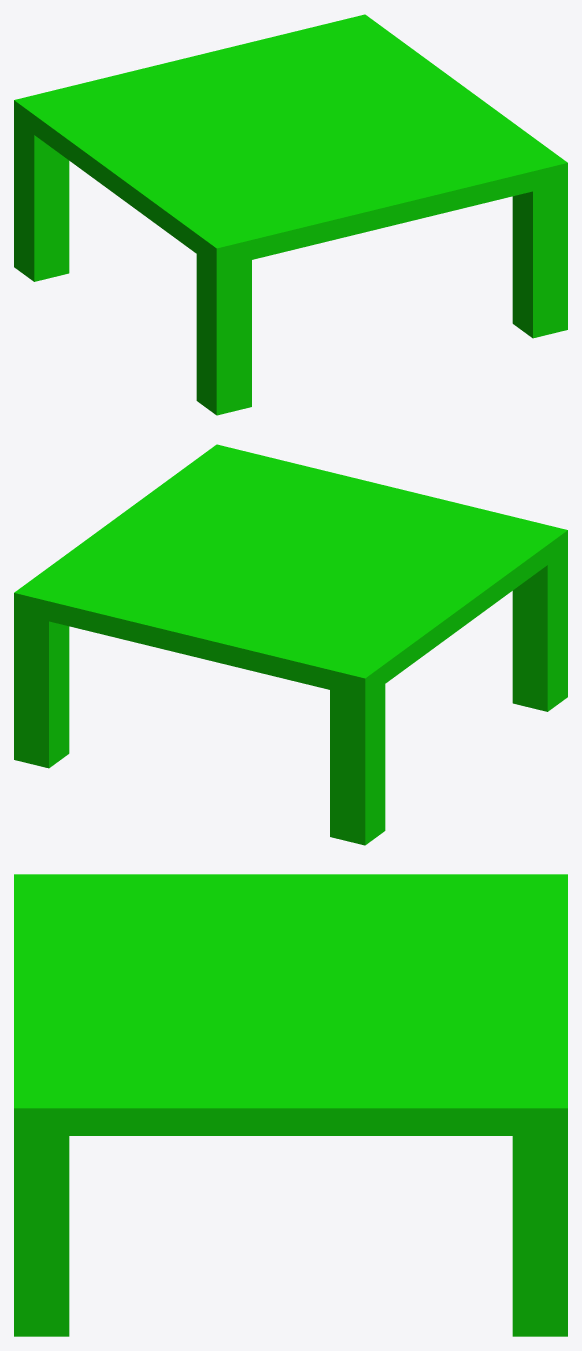
Rendered from table.fbx.
The picture shows the model from 3 angles, top to bottom: view 1: azimuth 30°, elevation 25°; view 2: azimuth 150°, elevation 25°; view 3: azimuth 270°, elevation 25°; orthographic projection. The views are drawn at different scales.
Visible parts, largest first — view 1: Mesh; view 2: Mesh; view 3: Mesh.
Boxes of the visible parts, <box> form: Mesh: <box>14,14,567,415</box>; Mesh: <box>14,444,567,845</box>; Mesh: <box>14,874,567,1336</box>.
Bounding box in the file's own units: 200 × 90.91 × 200.
